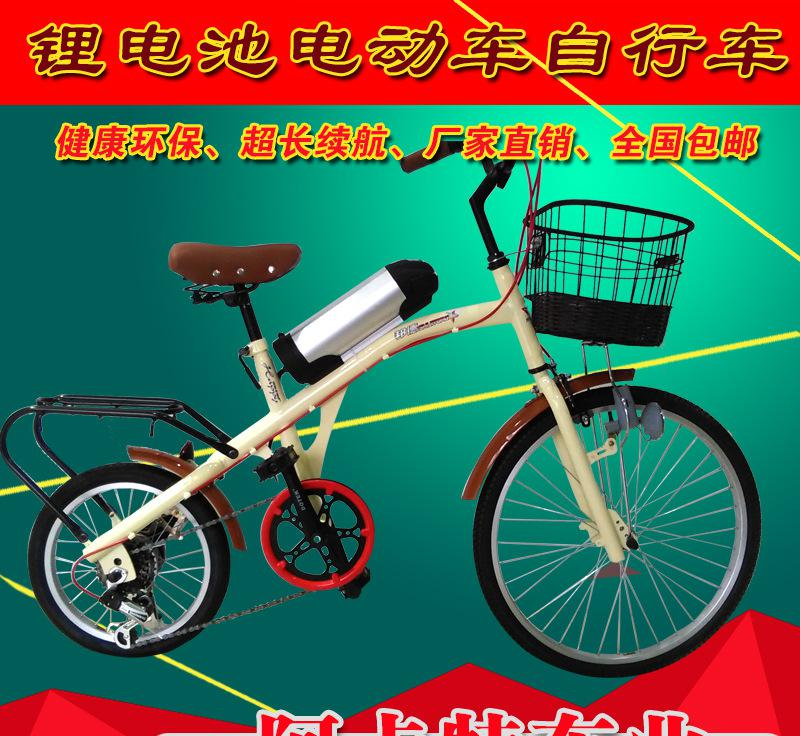电动车: (5, 136, 772, 683)
